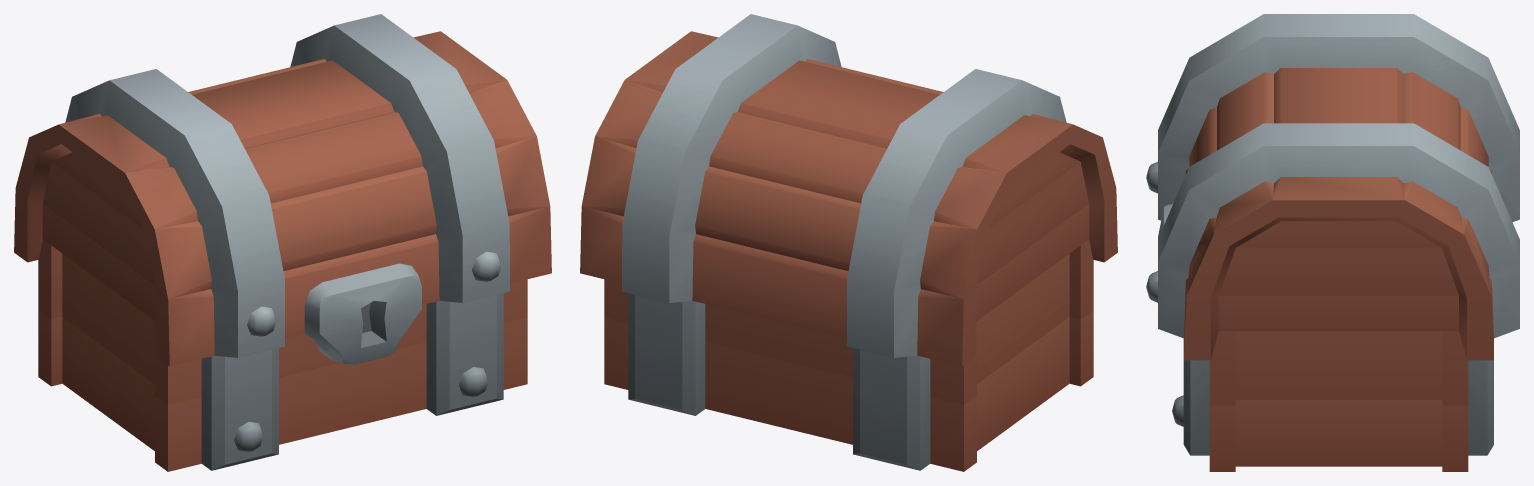
Rendered from chest.gltf.
3 renders of one model, left to right at view 1: azimuth 30°, elevation 25°; view 2: azimuth 150°, elevation 25°; view 3: azimuth 270°, elevation 25°, orthographic.
Visible parts, largest first — view 1: chest_lid, chest; view 2: chest_lid, chest; view 3: chest_lid, chest.
Part boxes in pixels (left/top/right/bottom): chest_lid: left=14, top=14, right=551, bottom=366; chest: left=38, top=239, right=527, bottom=471; chest_lid: left=580, top=14, right=1117, bottom=366; chest: left=604, top=239, right=1093, bottom=471; chest_lid: left=1146, top=14, right=1519, bottom=360; chest: left=1172, top=331, right=1493, bottom=471.
Bounding box in the file's own units: 1.7 × 1.3 × 1.45.
Materials: 1 (1 with a texture image).
